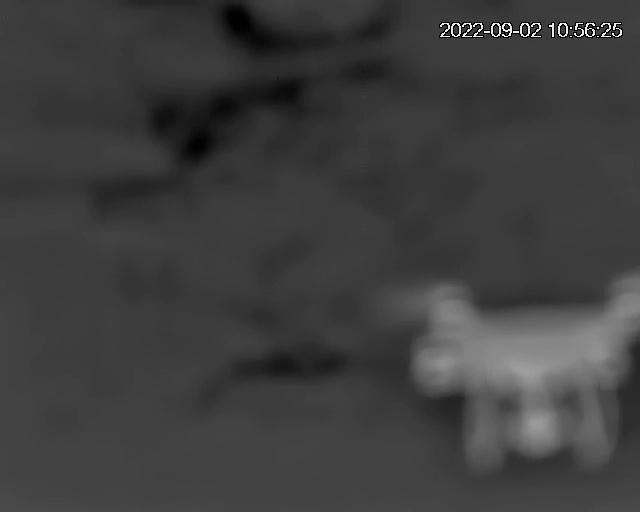DJI-Phantom: (389, 276, 640, 473)
